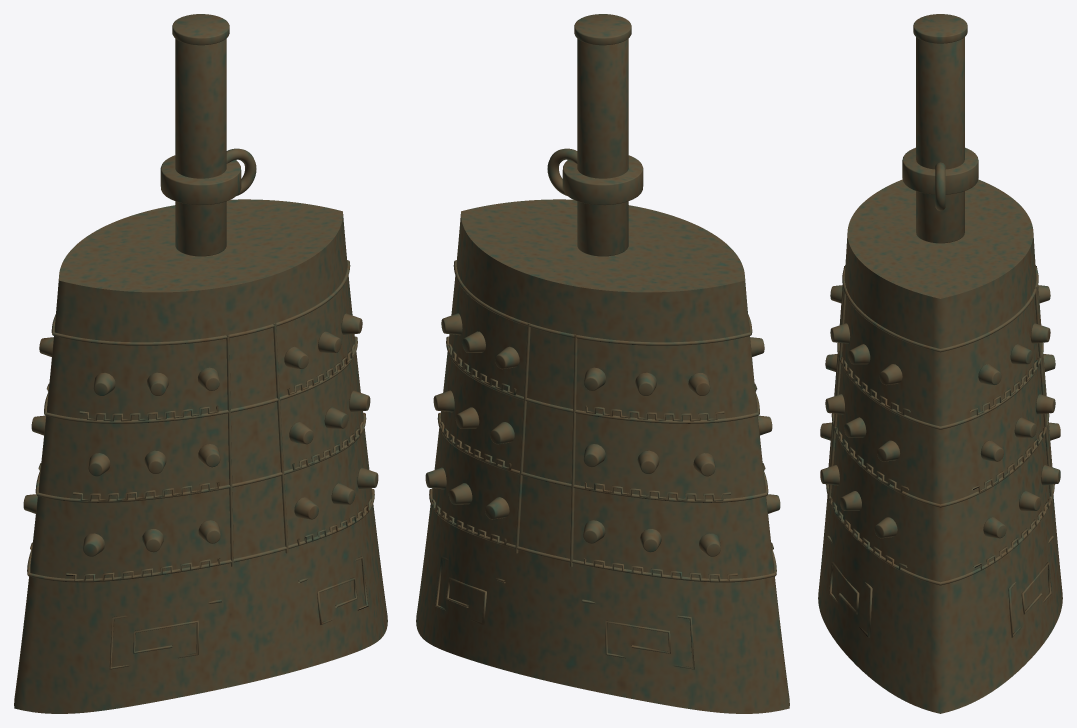
Rendered from workshop-bell.glb.
3 renders of one model, left to right at view 1: azimuth 30°, elevation 25°; view 2: azimuth 150°, elevation 25°; view 3: azimuth 270°, elevation 25°, orthographic. The views are drawn at different scales.
Parts seen in each view (by area): view 1: bell_body; view 2: bell_body; view 3: bell_body.
Boxes of the visible parts, x1,y1,x2,y2 form: bell_body: [14, 14, 387, 713]; bell_body: [416, 14, 789, 713]; bell_body: [818, 14, 1062, 713].
Size of the model in its own units: 0.15 by 0.2445 by 0.09.
1 material, 1 textured.
